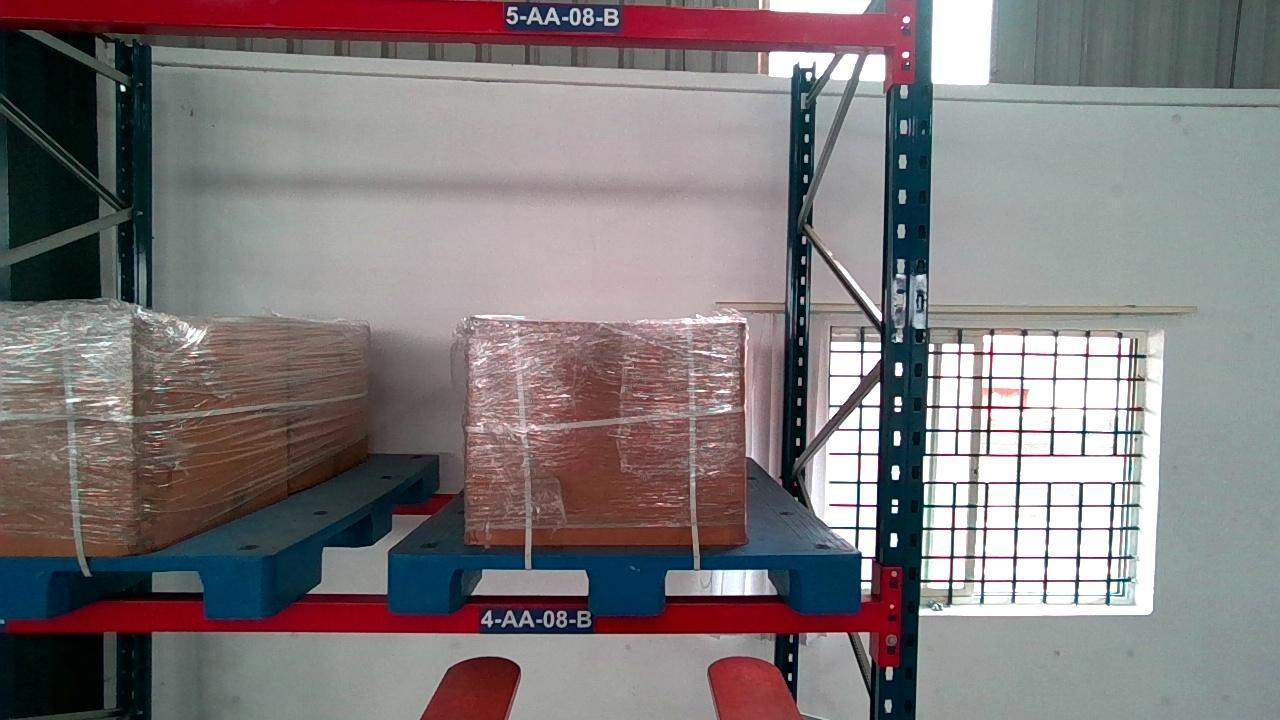h_rack: (0, 0, 898, 46), (3, 601, 887, 633)
small_pallet: (390, 551, 858, 609), (2, 552, 265, 617)
